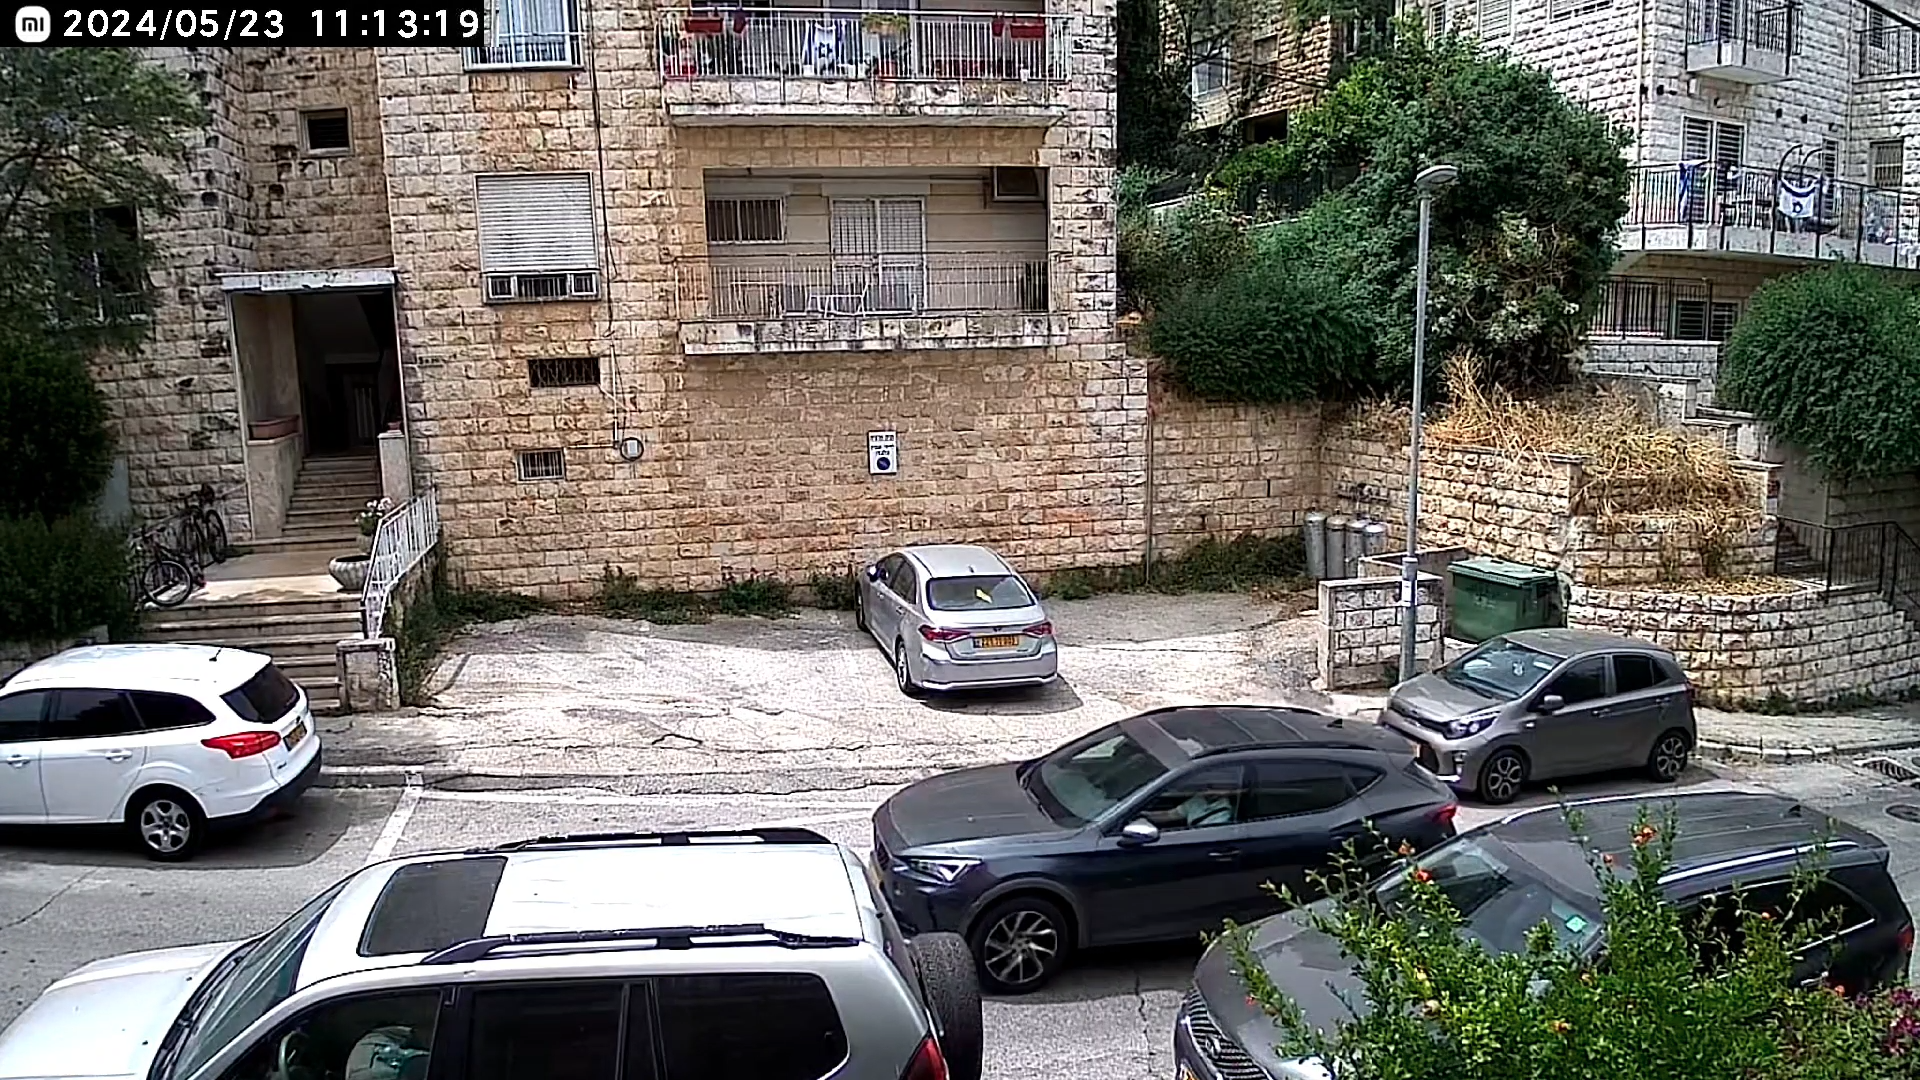moving car: (872, 698, 1458, 963)
